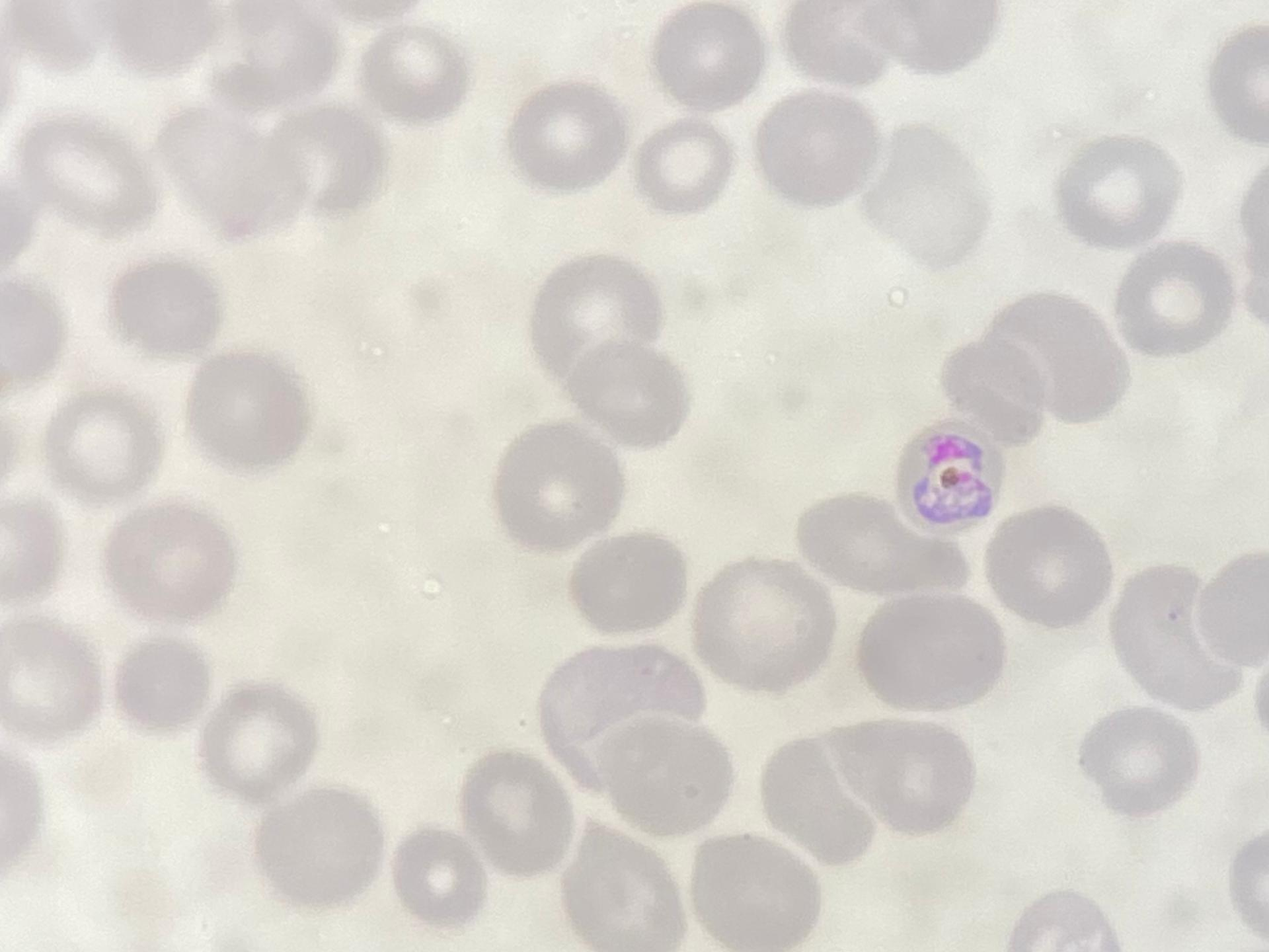Infected: (894, 422, 1001, 534)
Uninfected: (968, 290, 1130, 429), (157, 104, 318, 243), (540, 648, 702, 780), (584, 712, 736, 838), (822, 718, 981, 838), (860, 126, 988, 270), (1108, 565, 1239, 705), (853, 591, 1004, 710), (691, 559, 831, 686), (795, 493, 970, 594), (18, 119, 164, 237), (491, 422, 623, 547), (759, 733, 883, 864), (103, 500, 236, 621), (558, 828, 687, 952), (250, 786, 379, 906), (689, 832, 820, 950), (183, 350, 309, 469), (987, 504, 1110, 625), (530, 252, 659, 365), (264, 105, 385, 223), (459, 751, 576, 873), (204, 5, 340, 109), (753, 89, 877, 202), (561, 338, 687, 447), (564, 530, 689, 635), (198, 686, 315, 798), (1112, 245, 1230, 356), (1057, 136, 1178, 244), (1077, 708, 1195, 817), (507, 79, 626, 186), (45, 389, 162, 497), (2, 617, 102, 736), (654, 0, 765, 106), (941, 340, 1052, 445), (110, 257, 221, 354), (360, 25, 469, 118), (787, 1, 904, 87), (112, 637, 215, 733), (865, 1, 995, 76), (102, 1, 226, 78), (391, 828, 490, 923), (634, 120, 734, 213), (1005, 890, 1120, 951), (0, 279, 64, 381), (3, 181, 53, 279)
